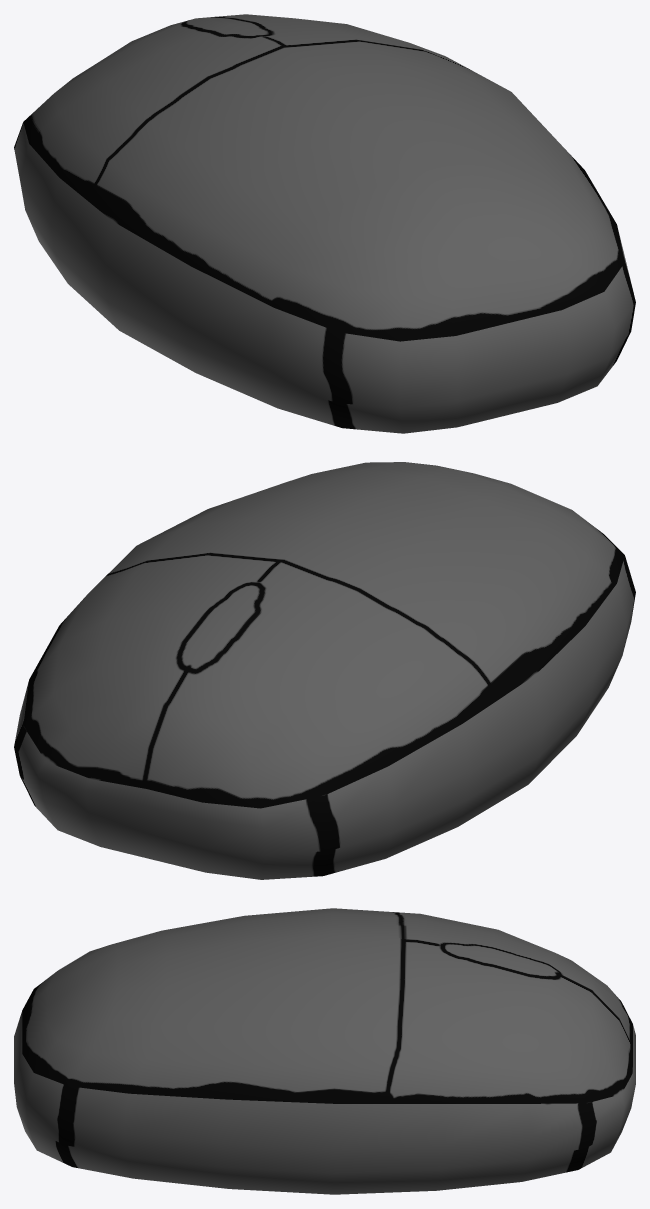
The model's file is mouse.FBX.
3 renders of one model, top to bottom at view 1: azimuth 30°, elevation 25°; view 2: azimuth 150°, elevation 25°; view 3: azimuth 270°, elevation 25°, orthographic. The views are drawn at different scales.
Visible parts, largest first — view 1: Box002; view 2: Box002; view 3: Box002.
Boxes of the visible parts, <box> form: Box002: <box>14,14,635,433</box>; Box002: <box>14,462,635,879</box>; Box002: <box>14,908,635,1194</box>.
Size of the model in its own units: 2.84 by 1.34 by 4.13.
